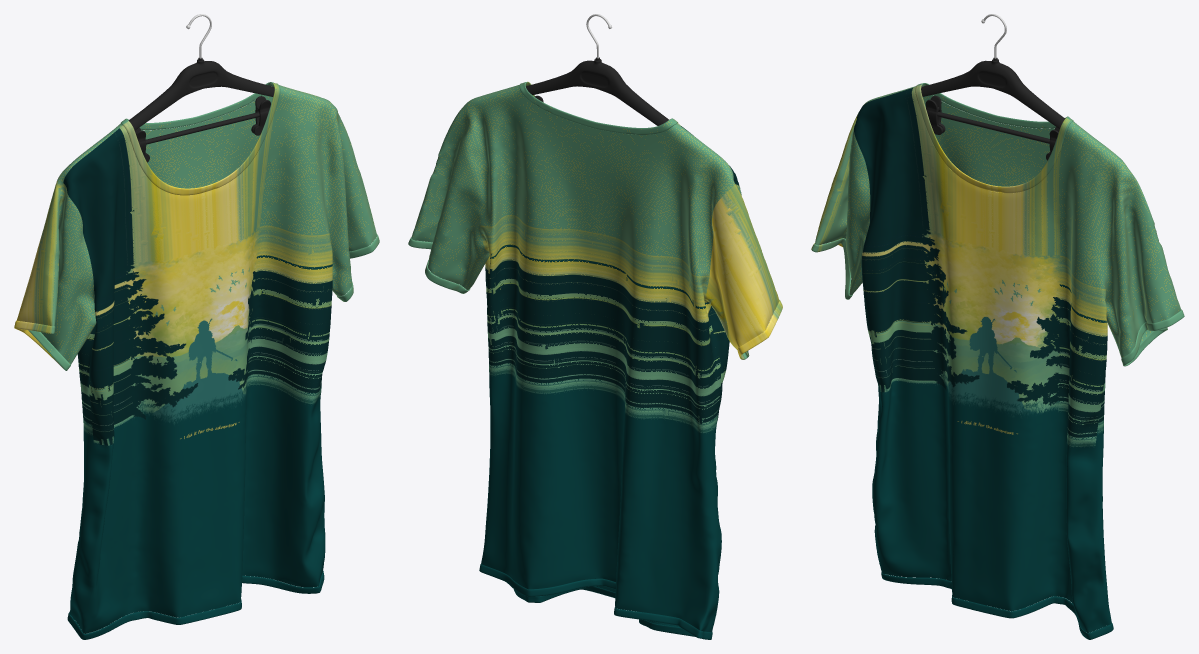
The model's file is baju1.glb.
3 renders of one model, left to right at view 1: azimuth 30°, elevation 25°; view 2: azimuth 150°, elevation 25°; view 3: azimuth 330°, elevation 25°, orthographic.
Visible parts, largest first — view 1: T-shirt_Zelda, Hanger; view 2: T-shirt_Zelda, Hanger; view 3: T-shirt_Zelda, Hanger.
Boxes of the visible parts, x1,y1,x2,y2 form: T-shirt_Zelda: [14, 82, 379, 639]; Hanger: [128, 14, 274, 162]; T-shirt_Zelda: [408, 81, 782, 639]; Hanger: [526, 14, 668, 125]; T-shirt_Zelda: [811, 83, 1184, 639]; Hanger: [921, 14, 1064, 160].
Bounding box in the file's own units: 0.5273 × 0.8387 × 0.0924.
Materials: 3 (1 with a texture image).
